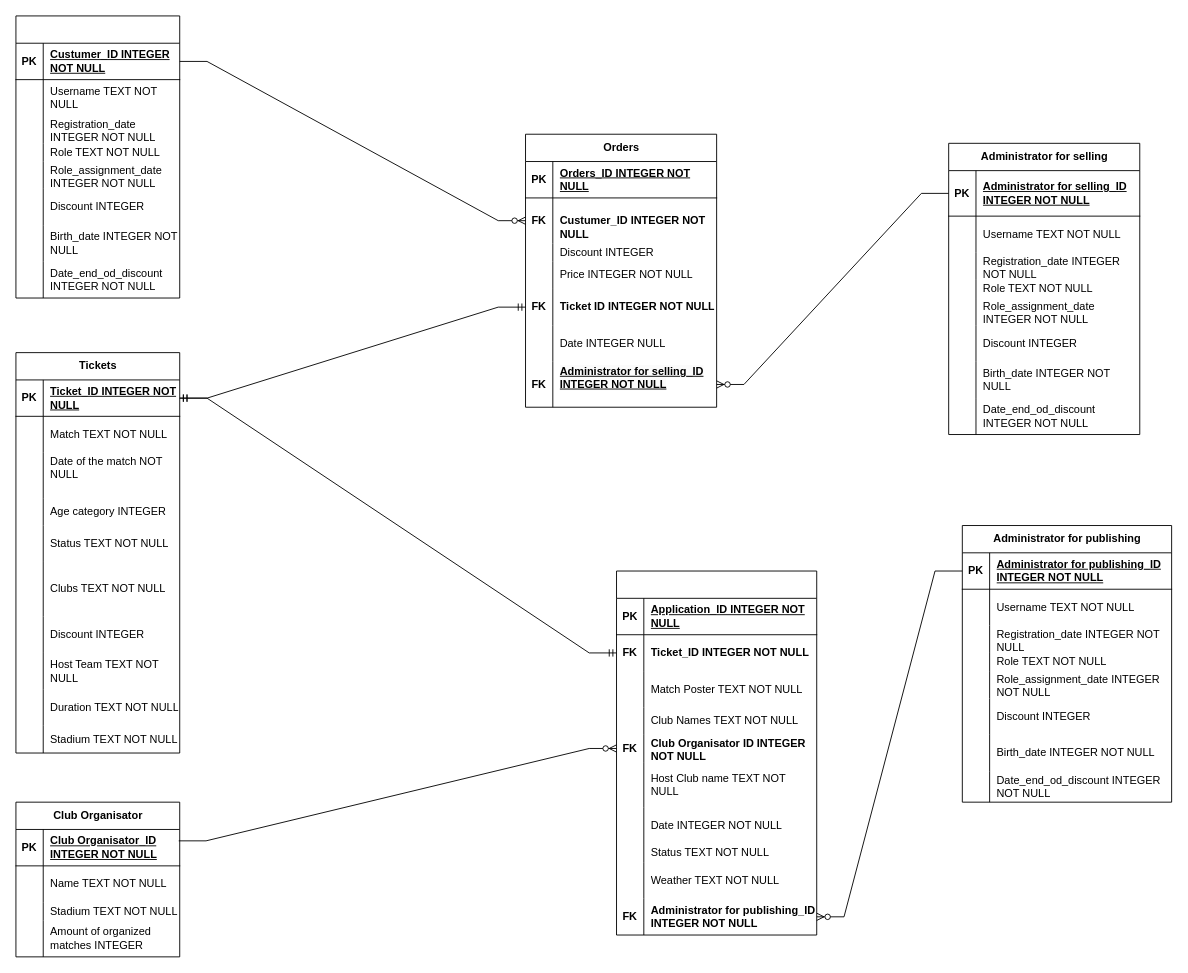
Image size: 1188x973. Some labels were removed from this diagram. The box of each missing label's shape, as (x1, y1, x2, y2) in pixels:
Application for publication: (616, 570, 817, 935)
Customer: (15, 15, 180, 298)
